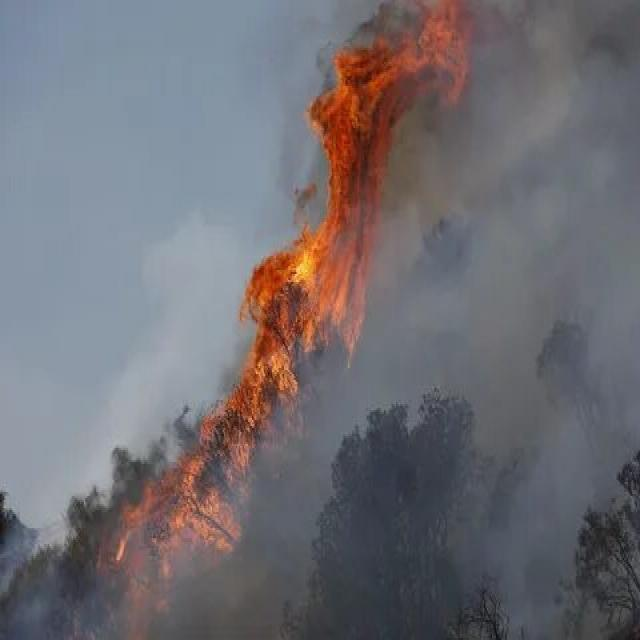Fire: (150, 15, 397, 620)
Smoke: (416, 80, 640, 640)
